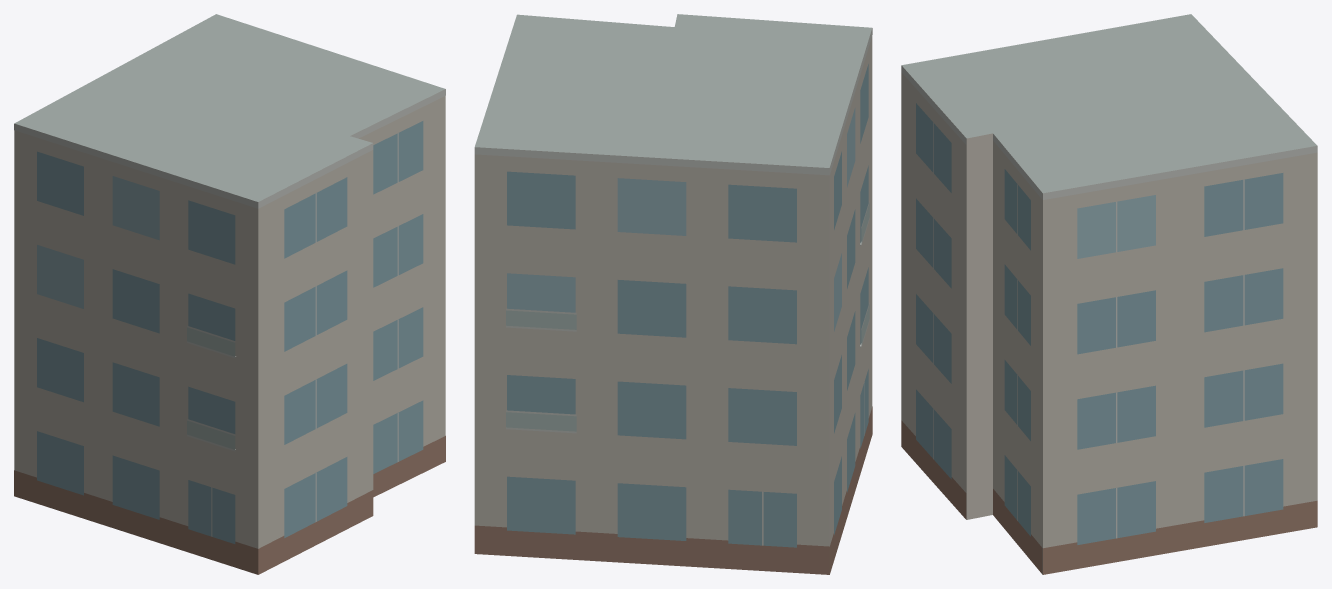
The model's file is survey-upis-32853069.glb.
3 views of the same model, side by side, from view 1: azimuth 30°, elevation 25°; view 2: azimuth 150°, elevation 25°; view 3: azimuth 270°, elevation 25° (orthographic). The views are drawn at different scales.
Visible parts, largest first — view 1: survey-upis-32853069.tmp; view 2: survey-upis-32853069.tmp; view 3: survey-upis-32853069.tmp.
Boxes of the visible parts, x1=… form: survey-upis-32853069.tmp: x1=14, y1=14, x2=445, y2=574; survey-upis-32853069.tmp: x1=474, y1=14, x2=872, y2=574; survey-upis-32853069.tmp: x1=901, y1=14, x2=1317, y2=574.
Size of the model in its own units: 13.72 by 13.6 by 13.45.
